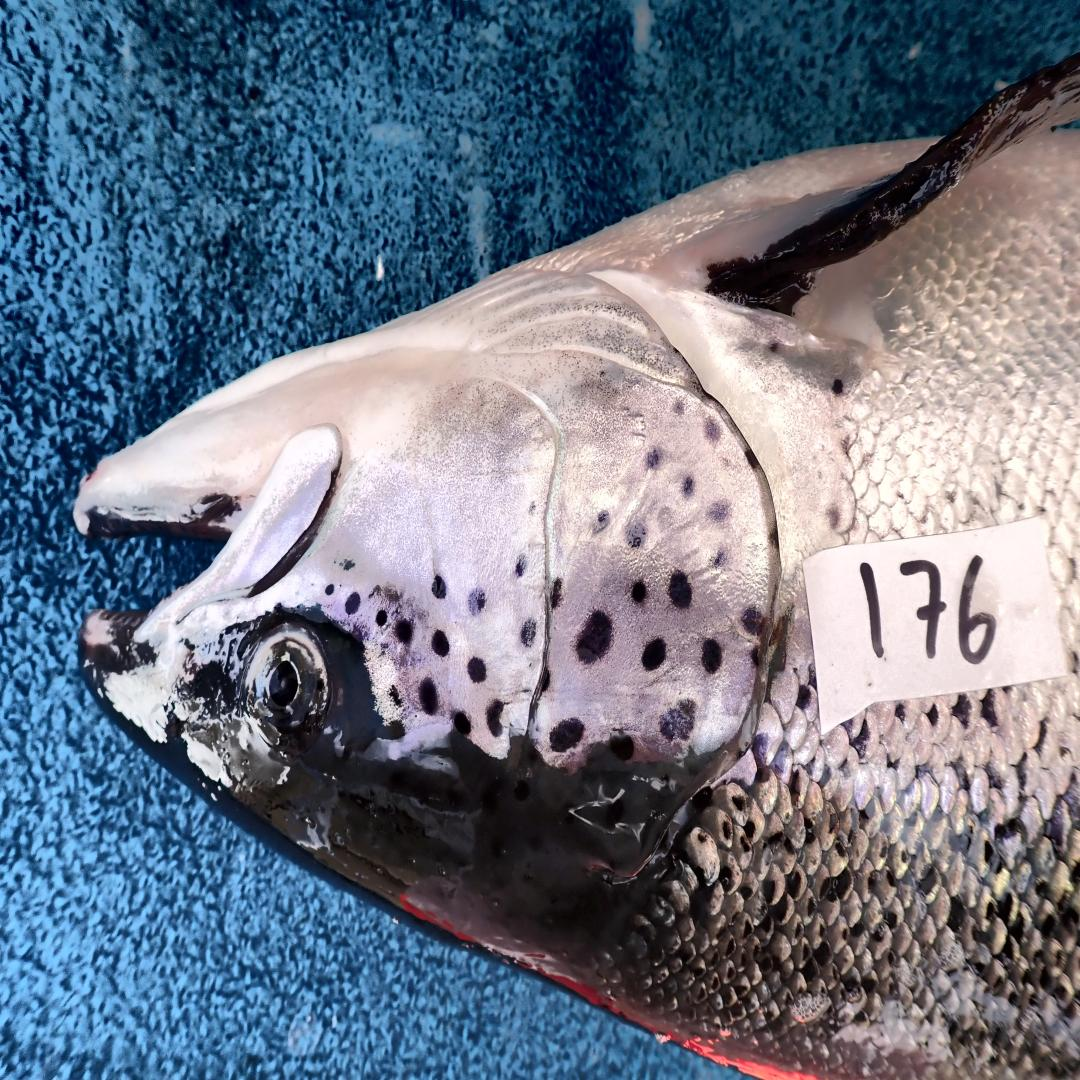spot: (576, 610, 612, 664), (660, 700, 696, 740), (551, 717, 584, 754), (669, 571, 692, 610), (607, 727, 635, 759), (700, 638, 724, 675), (641, 638, 667, 669), (420, 678, 439, 714), (742, 608, 767, 635), (487, 700, 504, 737), (707, 500, 731, 523), (468, 655, 487, 683), (626, 520, 645, 548), (468, 588, 485, 616), (394, 619, 413, 644), (631, 579, 648, 605), (744, 445, 761, 471), (432, 630, 449, 655), (521, 619, 536, 647), (710, 546, 729, 568), (705, 419, 721, 444), (593, 509, 610, 532), (645, 447, 662, 470), (432, 574, 447, 599), (551, 579, 563, 610), (454, 712, 470, 734), (661, 507, 675, 532), (386, 721, 405, 739), (388, 686, 403, 706), (346, 593, 361, 613), (681, 475, 694, 498), (540, 669, 551, 695), (375, 608, 390, 627), (515, 554, 527, 577), (340, 557, 354, 571), (673, 399, 686, 413), (527, 501, 538, 515), (325, 582, 335, 596)
